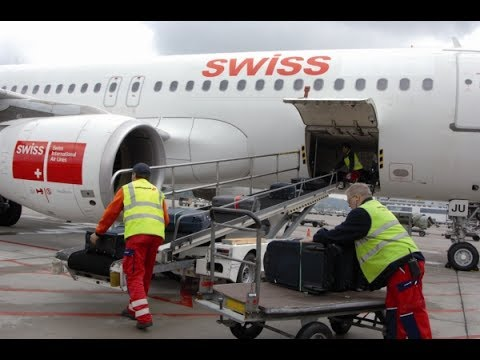baggagetruck: (54, 128, 370, 297)
